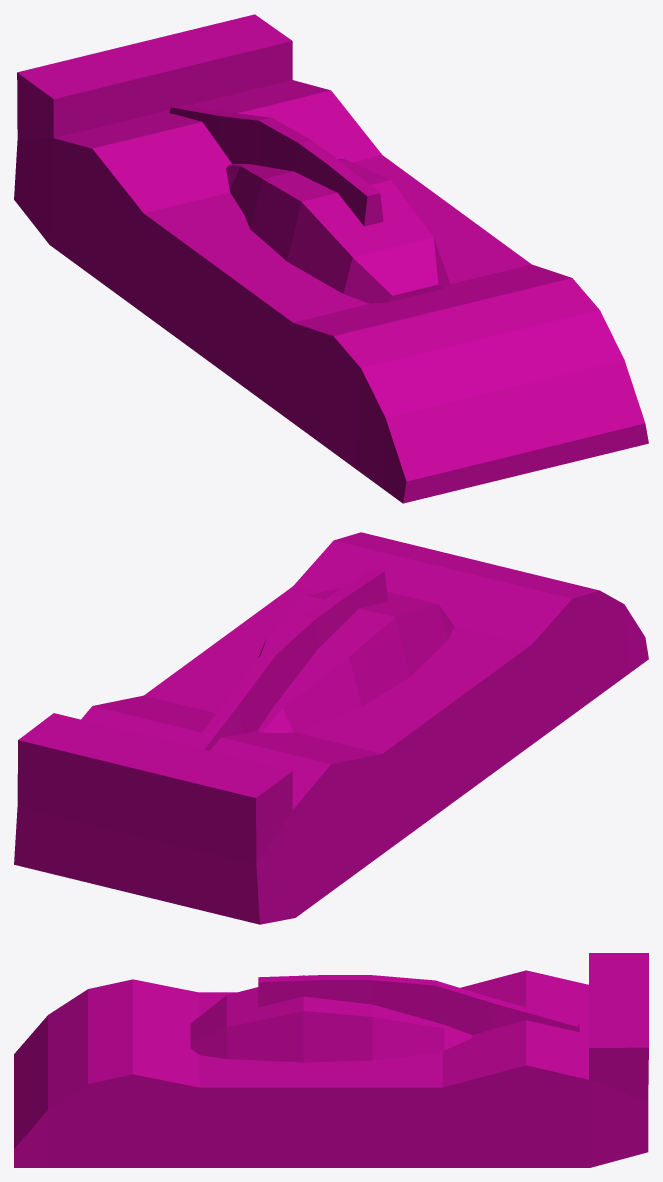
File: SM_Veh_Prototype_01_Preset_01_Collision.fbx
3 views of the same model, one above another, from view 1: azimuth 30°, elevation 25°; view 2: azimuth 150°, elevation 25°; view 3: azimuth 270°, elevation 25° (orthographic). The views are drawn at different scales.
Parts seen in each view (by area): view 1: SM_Veh_Prototype_01_Preset_01_Collision; view 2: SM_Veh_Prototype_01_Preset_01_Collision; view 3: SM_Veh_Prototype_01_Preset_01_Collision.
Part boxes in pixels (box(x1,y1,x2,y2)): SM_Veh_Prototype_01_Preset_01_Collision: box(14, 14, 648, 503); SM_Veh_Prototype_01_Preset_01_Collision: box(14, 532, 648, 924); SM_Veh_Prototype_01_Preset_01_Collision: box(14, 953, 648, 1167).
Bounding box in the file's own units: 248 × 166 × 680.
